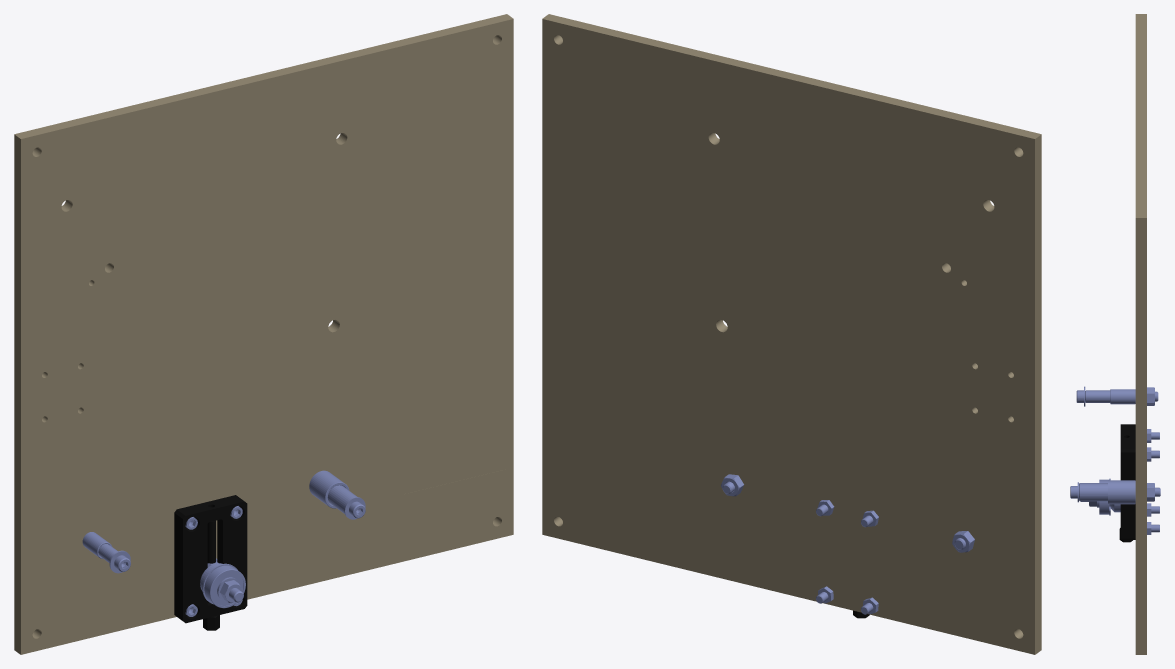
The model's file is bike_chain_task_board_no_sprockets.obj.
3 renders of one model, left to right at view 1: azimuth 30°, elevation 25°; view 2: azimuth 150°, elevation 25°; view 3: azimuth 270°, elevation 25°, orthographic. The views are drawn at different scales.
Parts seen in each view (by area): view 1: body82530_1, body84084_1, body87152_1, body90921_1, body85936_1; view 2: body82530_1; view 3: body82530_1, body84084_1, body90921_1, body91236_1, body100303_1, body91033_1, body87152_1, body85936_1.
Part boxes in pixels (x1=…): body82530_1: x1=14, y1=14, x2=513, y2=654; body84084_1: x1=174, y1=495, x2=247, y2=630; body87152_1: x1=204, y1=565, x2=245, y2=608; body90921_1: x1=309, y1=470, x2=349, y2=508; body85936_1: x1=200, y1=558, x2=243, y2=602; body82530_1: x1=542, y1=14, x2=1041, y2=654; body82530_1: x1=1135, y1=14, x2=1146, y2=654; body84084_1: x1=1119, y1=424, x2=1135, y2=542; body90921_1: x1=1108, y1=480, x2=1135, y2=504; body91236_1: x1=1079, y1=483, x2=1160, y2=501; body100303_1: x1=1110, y1=389, x2=1135, y2=404; body91033_1: x1=1085, y1=390, x2=1158, y2=402; body87152_1: x1=1099, y1=479, x2=1109, y2=514; body85936_1: x1=1080, y1=501, x2=1120, y2=512.
Size of the model in its own units: 384 by 394 by 72.
